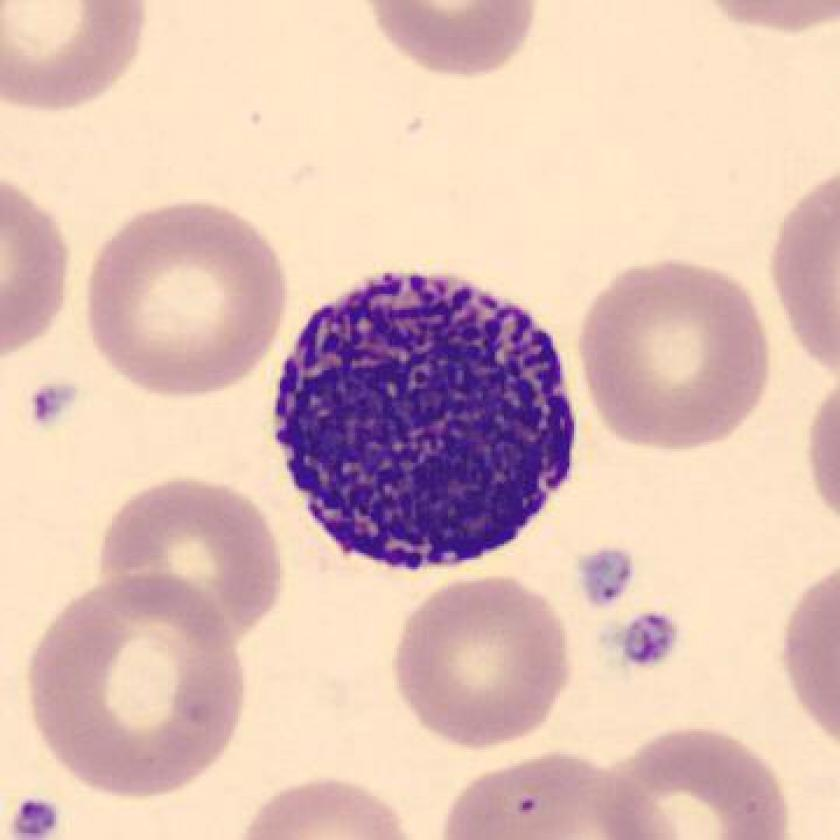basophil: (260, 267, 587, 582)
